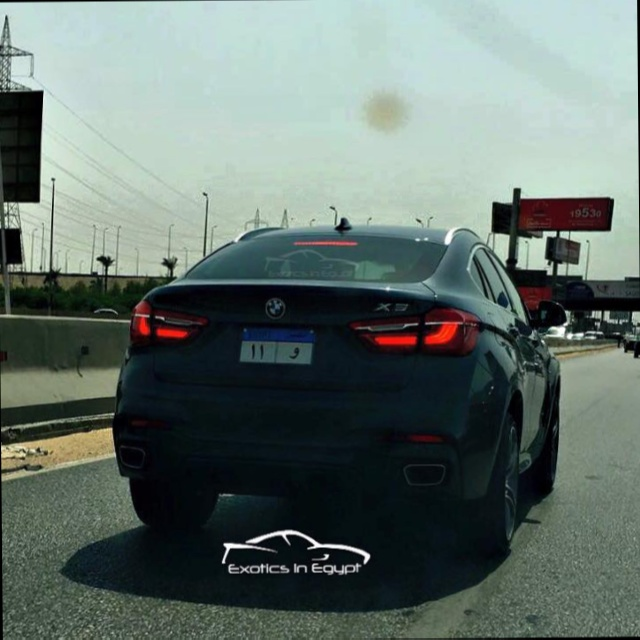License Plate: (237, 327, 317, 368)
